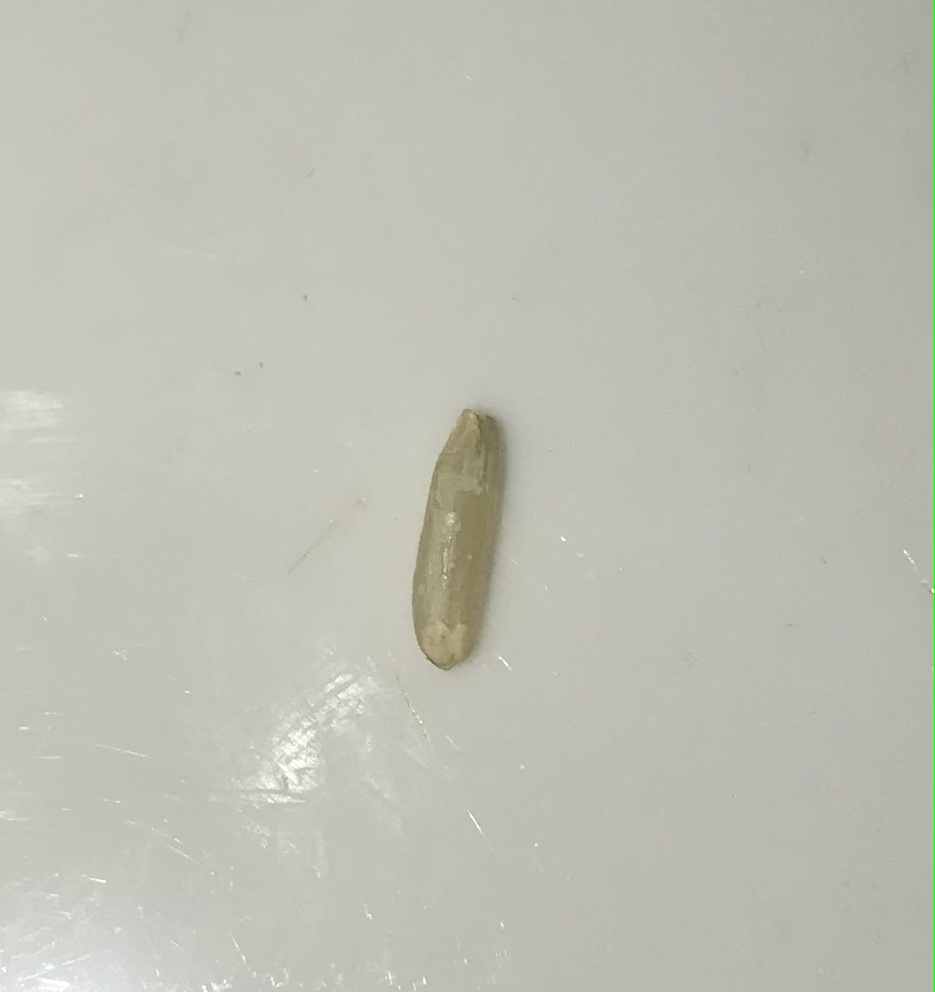Gao Lut Trang: (397, 412, 530, 679)
